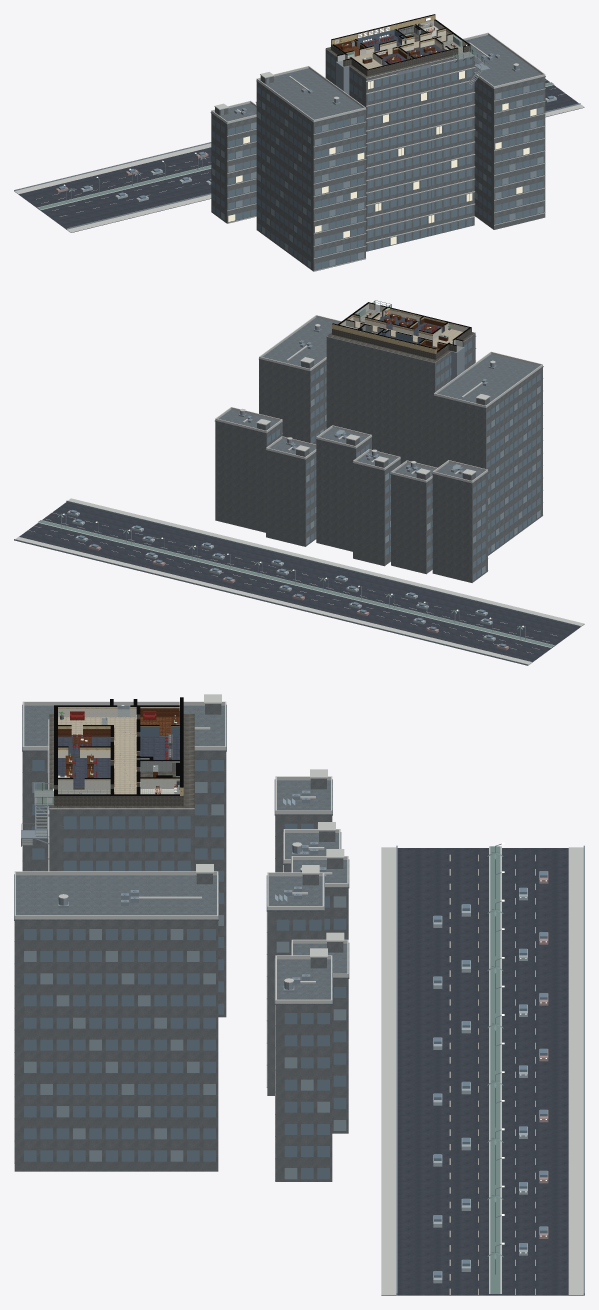
Rendered from guardiao.glb.
The picture shows the model from 3 angles, top to bottom: view 1: azimuth 30°, elevation 25°; view 2: azimuth 150°, elevation 25°; view 3: azimuth 270°, elevation 25°; orthographic projection. The views are drawn at different scales.
Parts seen in each view (by area): view 1: Lapa_guardiao_facade, Lapa_guardiao_window, Lapa_guardiao_trim, Lapa_guardiao_road, Lapa_guardiao_roof, Lapa_guardiao_window_blue, Lapa_guardiao_steel, Lapa_guardiao_window_lit, Lapa_concrete, Lapa_cap, Lapa_plaster, Lapa_guardiao_tree (+5 smaller); view 2: Lapa_guardiao_facade, Lapa_guardiao_road, Lapa_guardiao_trim, Lapa_guardiao_roof, Lapa_guardiao_window, Lapa_guardiao_steel, Lapa_guardiao_tree, Lapa_concrete, Lapa_guardiao_window_blue, Lapa_plaster, Lapa_guardiao_car, Lapa_cap (+3 smaller); view 3: Lapa_guardiao_road, Lapa_guardiao_facade, Lapa_guardiao_window, Lapa_guardiao_trim, Lapa_guardiao_roof, Lapa_guardiao_window_blue, Lapa_guardiao_tree, Lapa_guardiao_steel, Lapa_concrete, Lapa_cap, Lapa_carpete, Lapa_granilite (+6 smaller).
Boxes of the visible parts, bbox=[...] form: Lapa_guardiao_facade: bbox=[211, 43, 545, 271]; Lapa_guardiao_window: bbox=[58, 54, 554, 269]; Lapa_guardiao_trim: bbox=[14, 32, 584, 271]; Lapa_guardiao_road: bbox=[15, 79, 584, 232]; Lapa_guardiao_roof: bbox=[210, 35, 545, 124]; Lapa_guardiao_window_blue: bbox=[212, 85, 543, 267]; Lapa_guardiao_steel: bbox=[14, 51, 580, 249]; Lapa_guardiao_window_lit: bbox=[228, 71, 536, 244]; Lapa_concrete: bbox=[326, 30, 473, 77]; Lapa_cap: bbox=[331, 14, 470, 70]; Lapa_plaster: bbox=[331, 15, 470, 69]; Lapa_guardiao_tree: bbox=[38, 82, 553, 209]; Lapa_guardiao_facade: bbox=[215, 333, 542, 582]; Lapa_guardiao_road: bbox=[19, 502, 584, 665]; Lapa_guardiao_trim: bbox=[15, 315, 584, 664]; Lapa_guardiao_roof: bbox=[215, 317, 543, 483]; Lapa_guardiao_window: bbox=[70, 340, 540, 647]; Lapa_guardiao_steel: bbox=[14, 300, 580, 665]; Lapa_guardiao_tree: bbox=[38, 513, 553, 647]; Lapa_concrete: bbox=[327, 304, 475, 362]; Lapa_guardiao_window_blue: bbox=[306, 367, 540, 573]; Lapa_plaster: bbox=[332, 303, 468, 353]; Lapa_guardiao_car: bbox=[67, 510, 495, 641]; Lapa_cap: bbox=[332, 302, 471, 352]; Lapa_guardiao_road: bbox=[381, 848, 583, 1295]; Lapa_guardiao_facade: bbox=[14, 704, 348, 1181]; Lapa_guardiao_window: bbox=[24, 760, 547, 1277]; Lapa_guardiao_trim: bbox=[14, 694, 583, 1294]; Lapa_guardiao_roof: bbox=[14, 704, 349, 1004]; Lapa_guardiao_window_blue: bbox=[24, 782, 346, 1179]; Lapa_guardiao_tree: bbox=[487, 846, 503, 1293]; Lapa_guardiao_steel: bbox=[21, 744, 584, 1295]; Lapa_concrete: bbox=[49, 714, 194, 808]; Lapa_cap: bbox=[54, 697, 183, 795]; Lapa_carpete: bbox=[58, 736, 179, 787]; Lapa_granilite: bbox=[58, 717, 136, 794].
Bounding box in the file's own units: 130 × 44.53 × 70.08.
57 materials, 17 textured.
